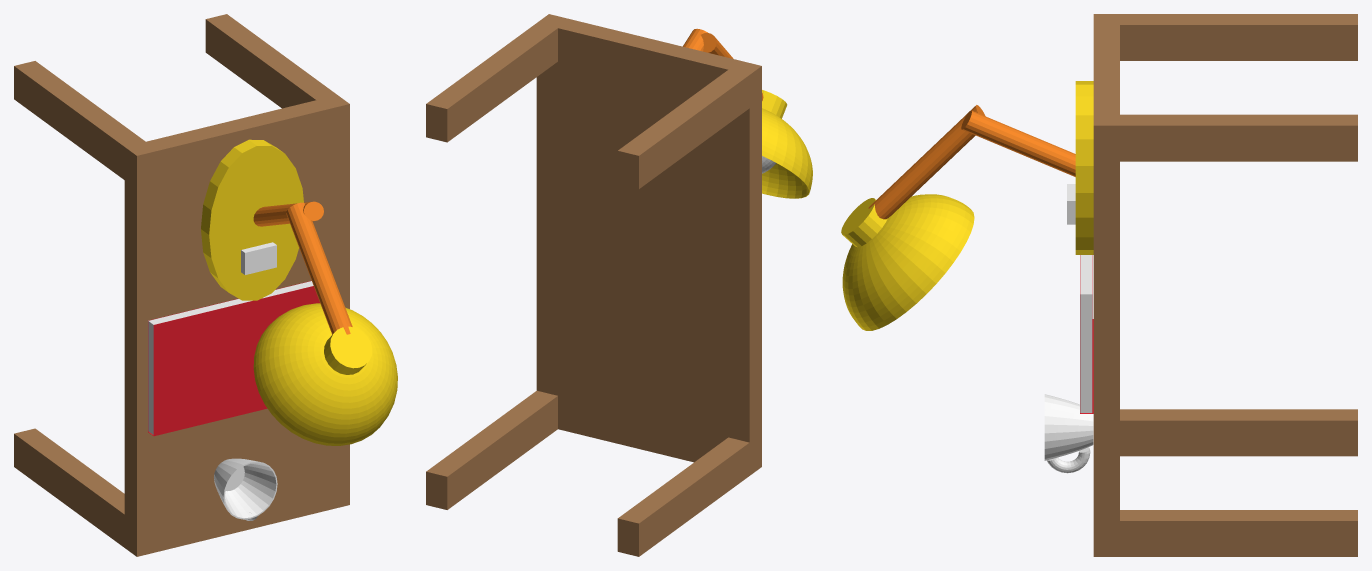
The model's file is tinker.obj.
3 renders of one model, left to right at view 1: azimuth 30°, elevation 25°; view 2: azimuth 150°, elevation 25°; view 3: azimuth 270°, elevation 25°, orthographic. The views are drawn at different scales.
Parts seen in each view (by area): view 1: group_0_11107152, group_0_16768282, group_0_15277357, group_0_16448250, group_0_16089887; view 2: group_0_11107152, group_0_16768282, group_0_16089887; view 3: group_0_11107152, group_0_16768282, group_0_16448250, group_0_16089887.
Boxes of the visible parts, bbox=[...] form: group_0_11107152: bbox=[14, 14, 349, 556]; group_0_16768282: bbox=[201, 139, 397, 445]; group_0_15277357: bbox=[148, 280, 319, 436]; group_0_16448250: bbox=[148, 242, 313, 520]; group_0_16089887: bbox=[253, 201, 352, 334]; group_0_11107152: bbox=[426, 14, 761, 556]; group_0_16768282: bbox=[762, 90, 812, 198]; group_0_16089887: bbox=[683, 28, 763, 100]; group_0_11107152: bbox=[1093, 14, 1357, 556]; group_0_16768282: bbox=[841, 81, 1093, 330]; group_0_16448250: bbox=[1044, 184, 1093, 473]; group_0_16089887: bbox=[868, 105, 1075, 219].
Size of the model in its own units: 20 by 36 by 39.09.
